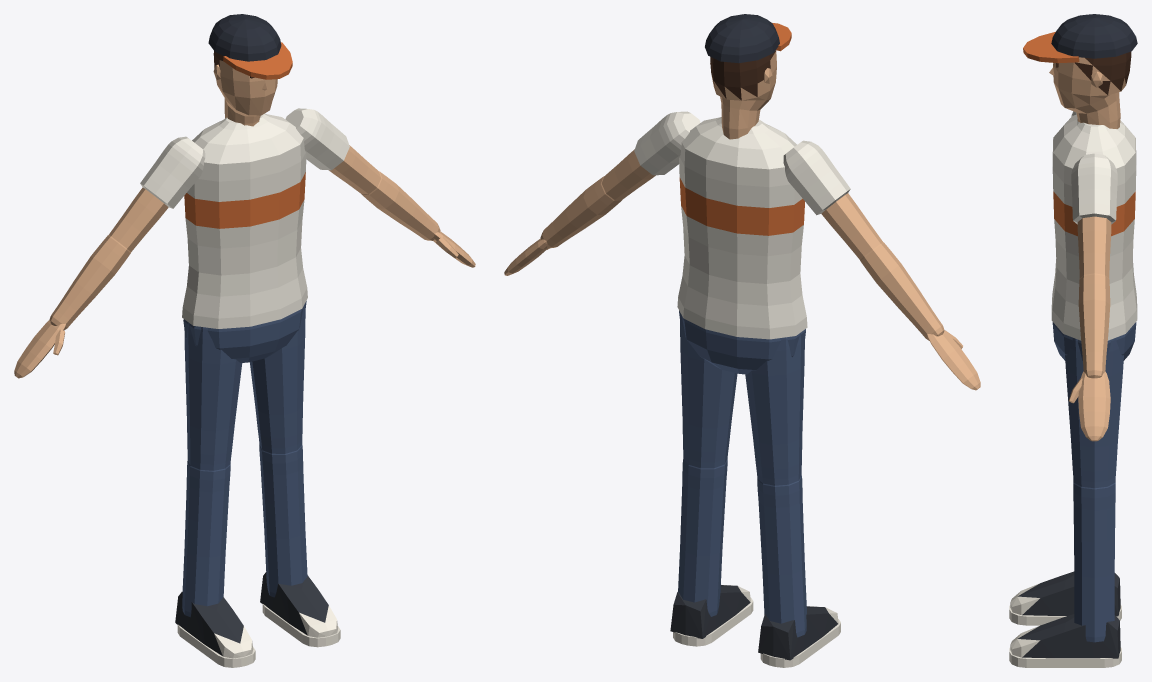
File: skater-Dn3_vKTY.glb
3 renders of one model, left to right at view 1: azimuth 30°, elevation 25°; view 2: azimuth 150°, elevation 25°; view 3: azimuth 270°, elevation 25°, orthographic. The views are drawn at different scales.
Parts seen in each view (by area): view 1: torso, thigh-r, shin-r, shin-l, thigh-l, upper-arm-r, cap, shoe-r, shoe-l, upper-arm-l, pelvis, forearm-r (+3 smaller); view 2: torso, thigh-r, shin-r, shin-l, thigh-l, upper-arm-r, head, upper-arm-l, shoe-r, shoe-l, cap, pelvis (+3 smaller); view 3: torso, shin-l, upper-arm-l, thigh-l, shoe-l, head, cap, forearm-l, shoe-r, hand-l, pelvis.
Part boxes in pixels (x1,y1,x2,y2): torso: (182,113,307,328); thigh-r: (184,322,242,470); shin-r: (182,461,230,617); shin-l: (259,445,307,597); thigh-l: (249,303,305,453); upper-arm-r: (109,136,205,251); cap: (208,14,292,79); shoe-r: (175,591,255,667); shoe-l: (260,572,340,647); upper-arm-l: (285,108,380,194); pelvis: (183,301,306,362); forearm-r: (49,235,131,330); torso: (677,117,807,339); thigh-r: (745,332,804,485); shin-r: (757,475,806,637); shin-l: (678,459,727,616); thigh-l: (680,313,737,468); upper-arm-r: (783,140,882,259); head: (710,50,776,139); upper-arm-l: (602,111,700,199); shoe-r: (758,606,840,667); shoe-l: (670,584,753,646); cap: (705,14,791,63); pelvis: (679,310,805,374); torso: (1051,114,1137,340); shin-l: (1073,481,1115,642); upper-arm-l: (1071,153,1117,277); thigh-l: (1065,338,1123,488); shoe-l: (1009,614,1121,667); head: (1049,51,1131,128); cap: (1023,14,1137,63); forearm-l: (1078,273,1110,378); shoe-r: (1009,571,1121,625); hand-l: (1068,371,1110,441); pelvis: (1052,322,1136,360).
Bounding box in the file's own units: 1.41 × 1.77 × 0.333.
